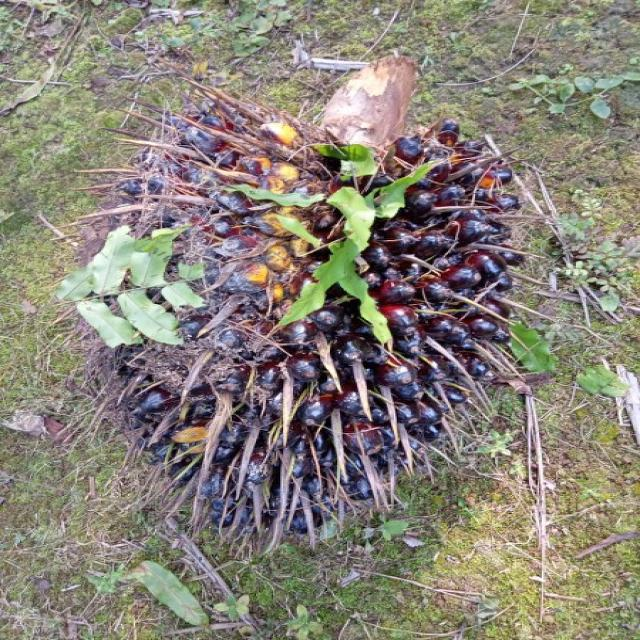fraksi 00: (16, 61, 608, 578)
